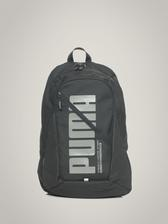bag: (35, 46, 137, 200)
